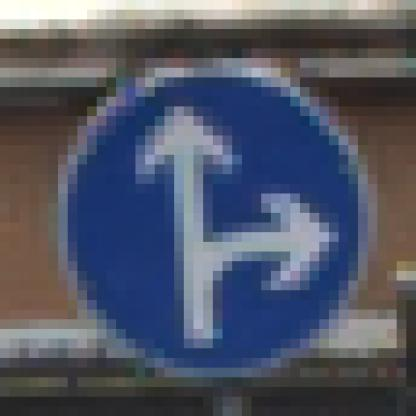Straight or Right: (59, 59, 369, 369)
